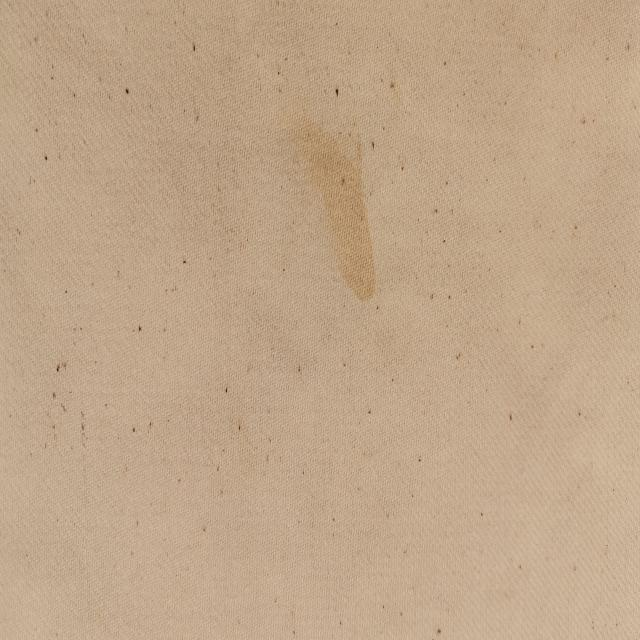taaaches: (286, 104, 384, 308)
